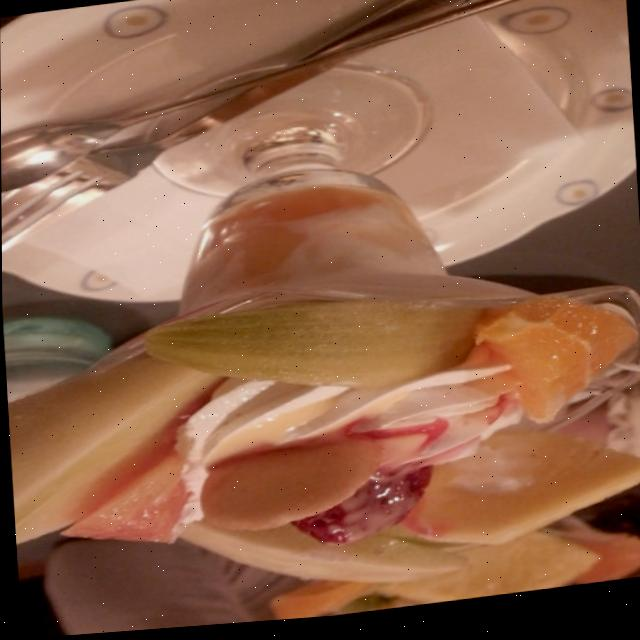蛋糕甜品: (0, 16, 640, 631)
